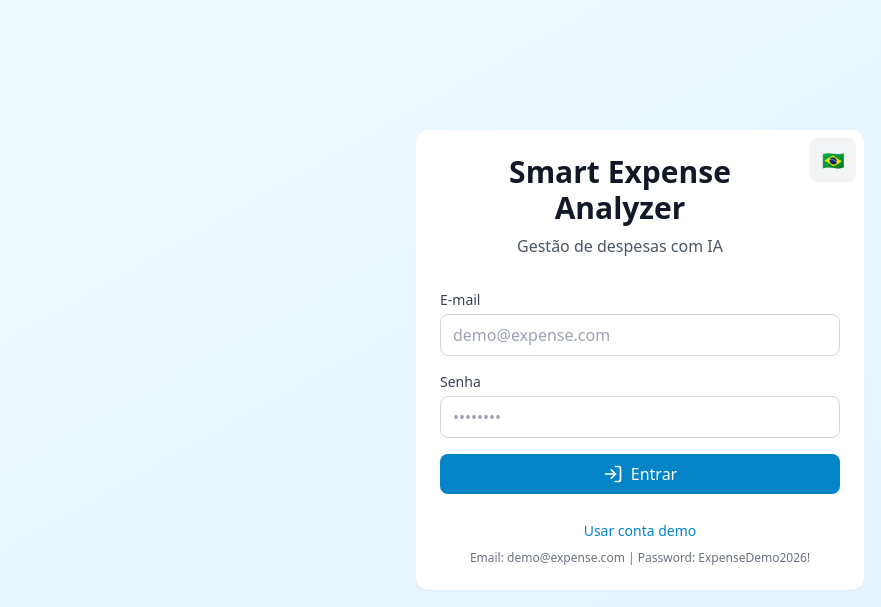
Test: Authentication Flow › should load demo credentials
The image size is (881, 607).
Click the button "Usar conta demo" at (641, 531), box [584,521,697,541]
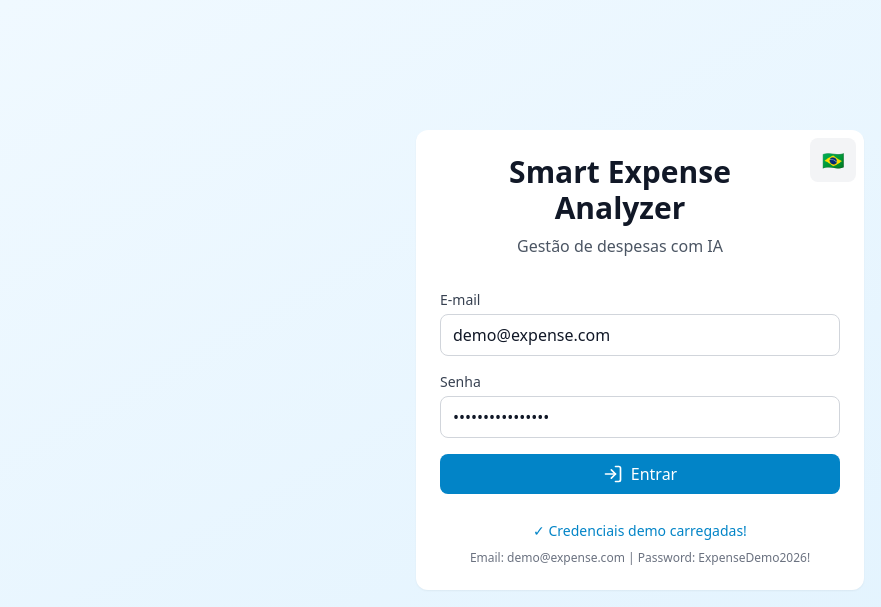
Expected: the field with id "email" holds "demo@expense.com", [440,314,840,356]
Expected: the password field labelled "Senha" holds "ExpenseDemo2026!", [440,396,840,438]
